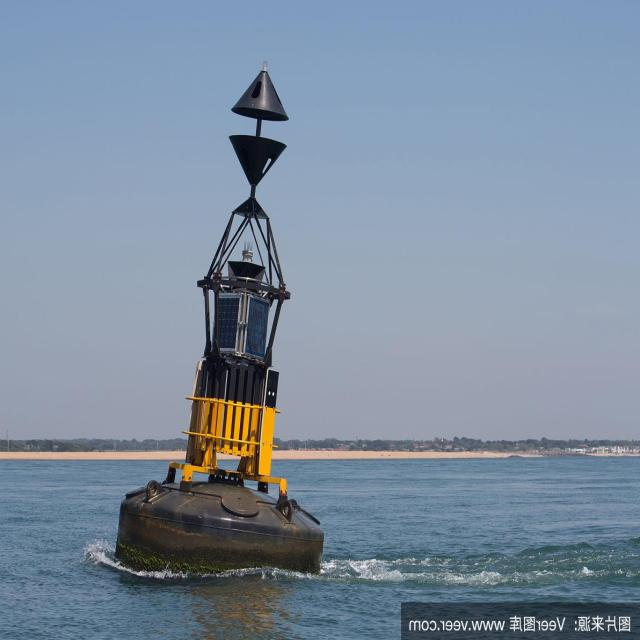buoy: (120, 56, 329, 578)
